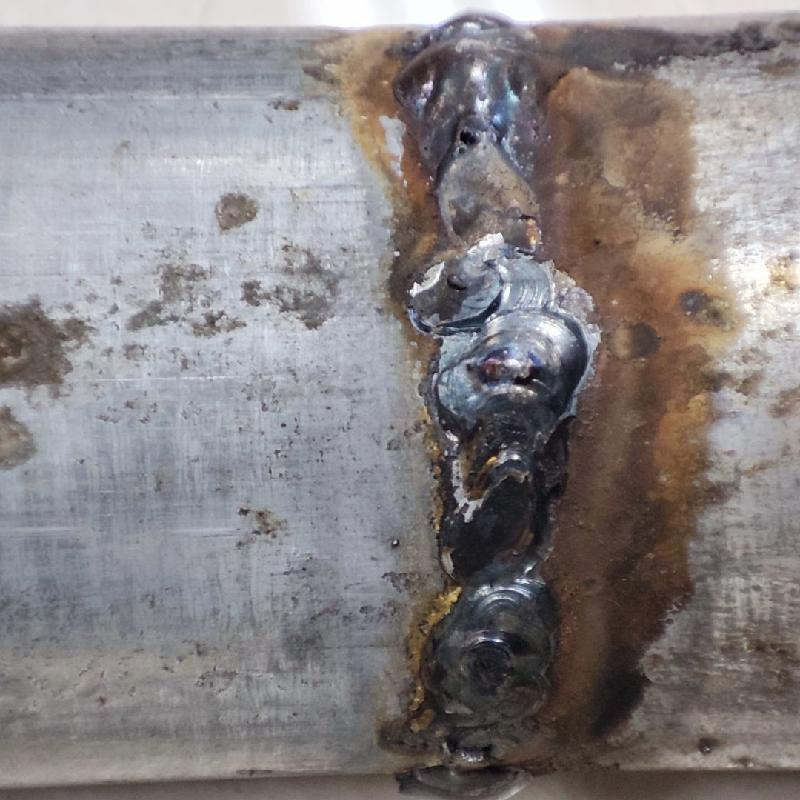Not_fully_soldered: (427, 123, 550, 302), (426, 725, 548, 771)
Surface_pores: (441, 116, 492, 163)
Weld: (396, 7, 546, 158)
wrong_size: (423, 305, 587, 723)
